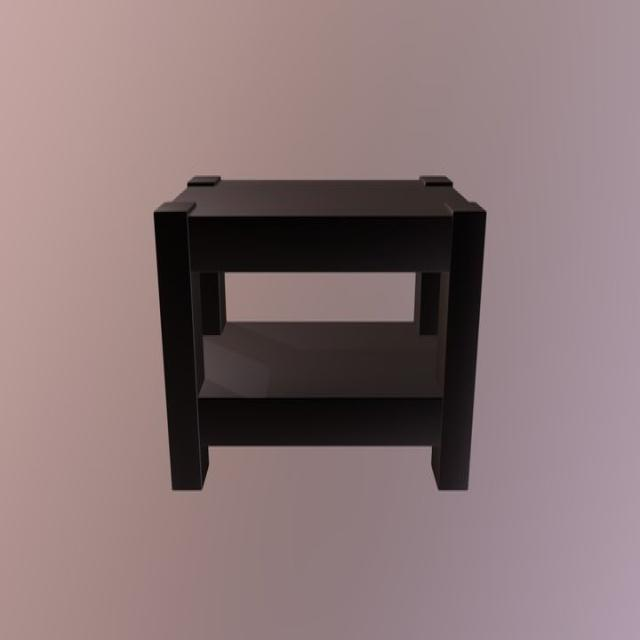table: (152, 171, 490, 496)
